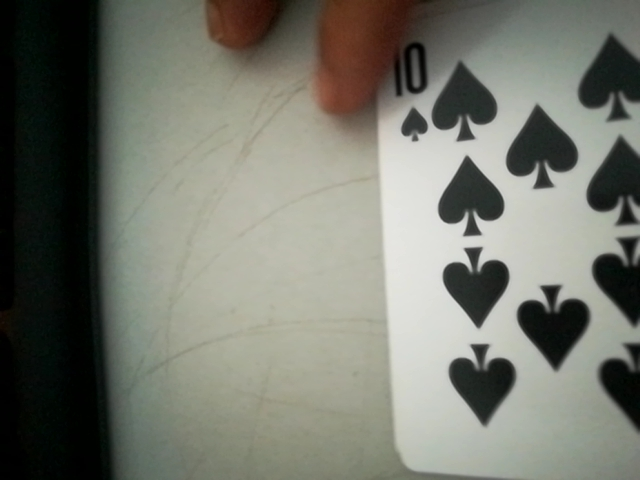ht 10: (385, 24, 432, 147)
